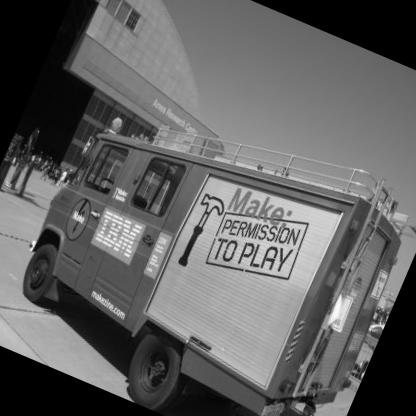truck: (1, 77, 416, 416)
